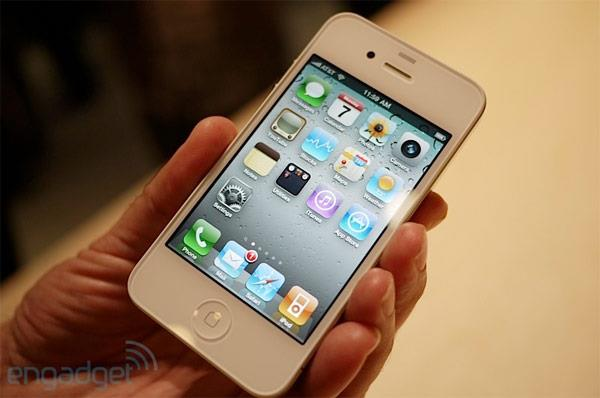iphone: (139, 12, 460, 376)
